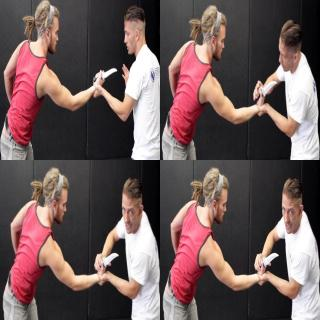knife: (252, 76, 278, 104), (94, 249, 120, 274), (254, 249, 280, 274), (92, 63, 118, 83)
